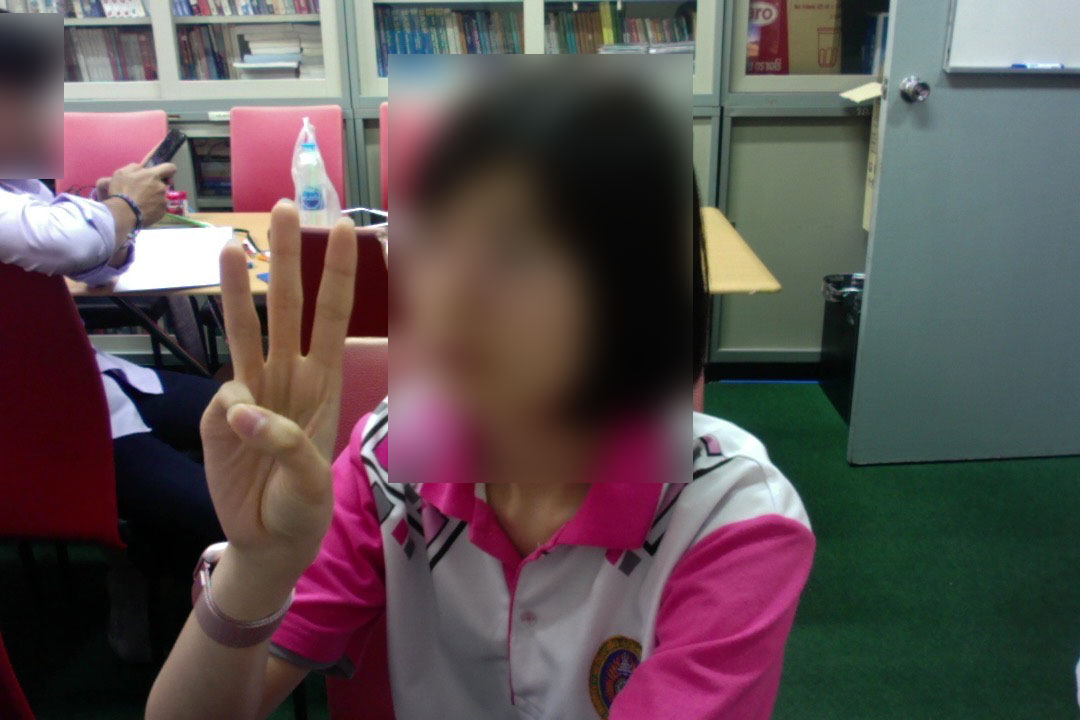wor: (181, 200, 361, 562)
